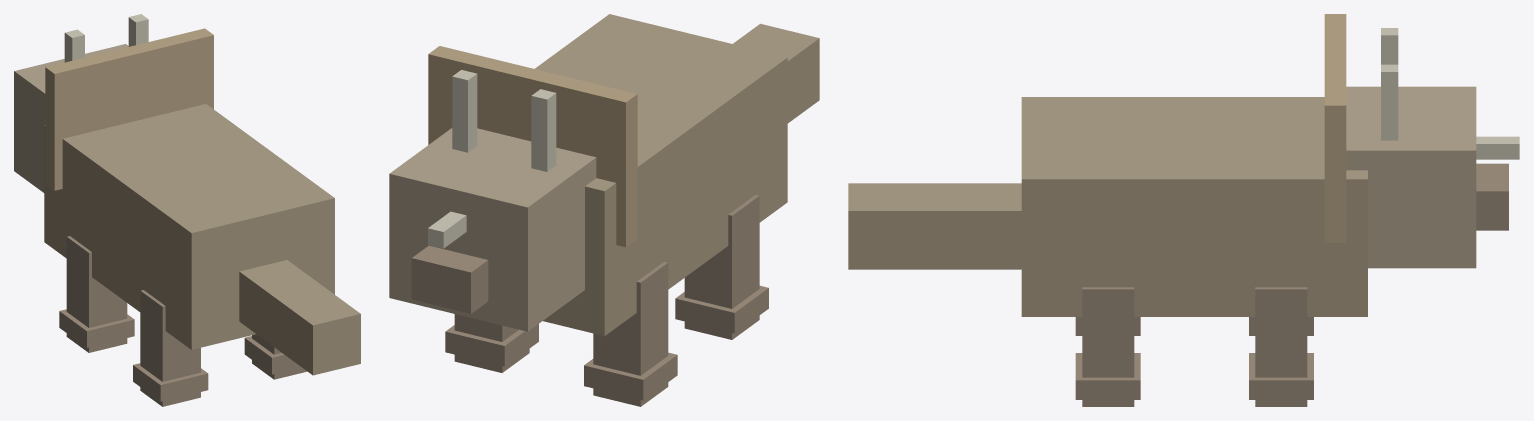
File: triceratops.glb
3 renders of one model, left to right at view 1: azimuth 30°, elevation 25°; view 2: azimuth 150°, elevation 25°; view 3: azimuth 270°, elevation 25°, orthographic. The views are drawn at different scales.
Visible parts, largest first — view 1: Dinosaur; view 2: Dinosaur; view 3: Dinosaur.
Part boxes in pixels (<box>): Dinosaur: <box>14,14,360,406</box>; Dinosaur: <box>389,14,819,406</box>; Dinosaur: <box>848,14,1519,406</box>.
Bounding box in the file's own units: 1 × 1.6 × 3.1.
